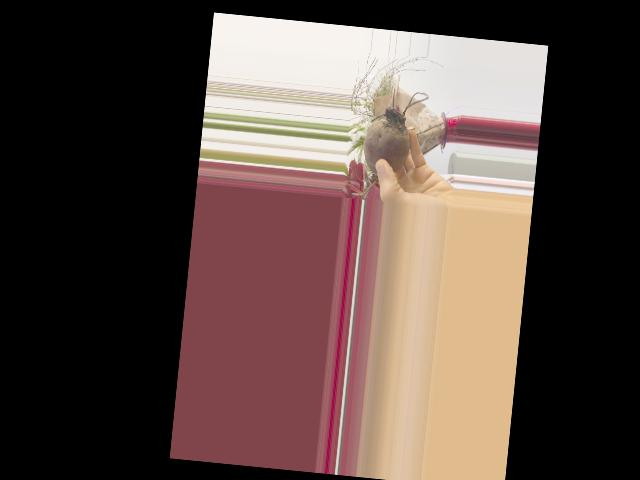beet: (352, 86, 429, 201)
